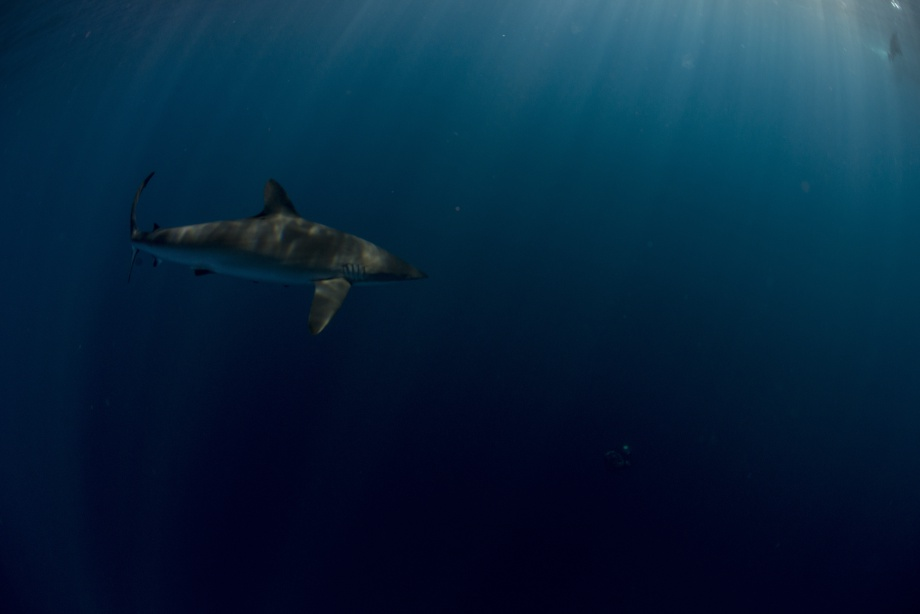Sedoso: (98, 154, 447, 342)
